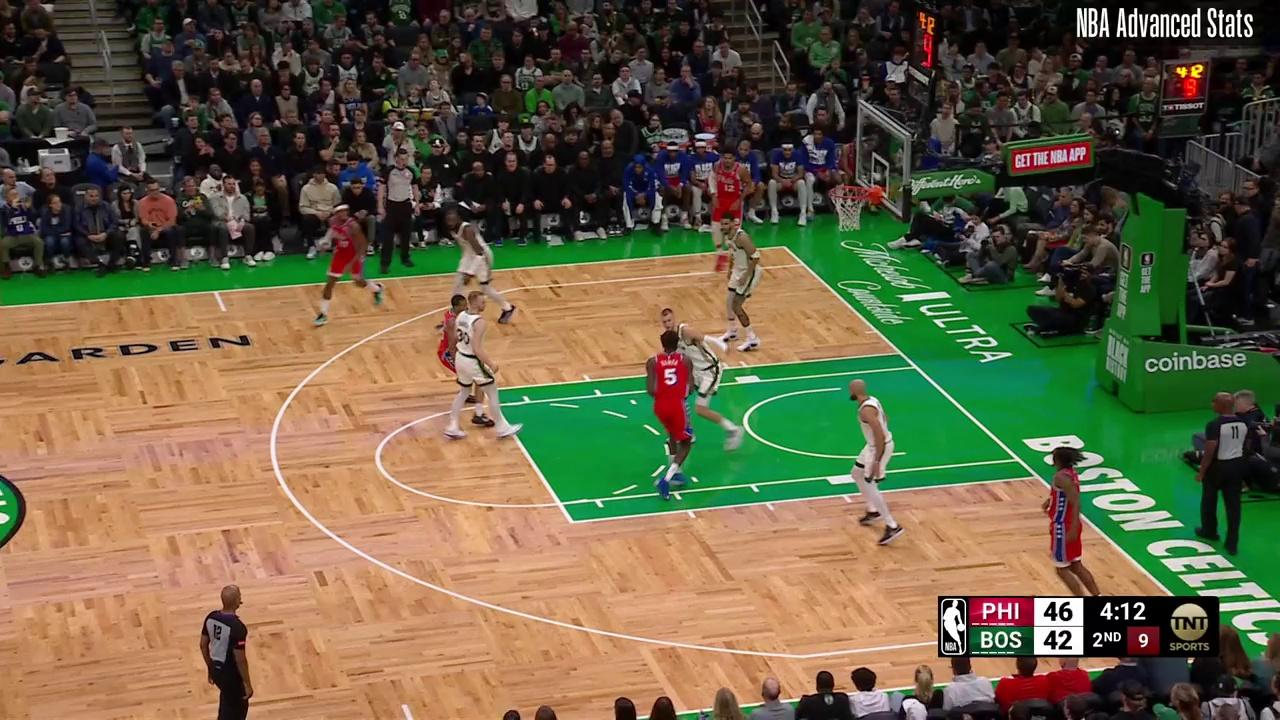3_sx: (798, 260, 807, 269)
b_sx: (779, 242, 788, 251)
free_adx: (566, 518, 577, 526)
free_bdx: (1033, 472, 1042, 481)
free_bsx: (895, 349, 905, 358)
mid_dx: (400, 700, 409, 709)
mid_sx: (219, 307, 228, 314)
referee: (1192, 393, 1259, 555), (199, 578, 259, 720), (373, 149, 422, 274)
team: (657, 304, 746, 449), (449, 292, 523, 445), (847, 375, 905, 547), (444, 205, 515, 326), (714, 211, 774, 351)
team1: (1042, 444, 1105, 597), (310, 204, 387, 327), (648, 328, 699, 498), (436, 293, 493, 428), (705, 150, 755, 273)
timer: (1096, 592, 1151, 626)
